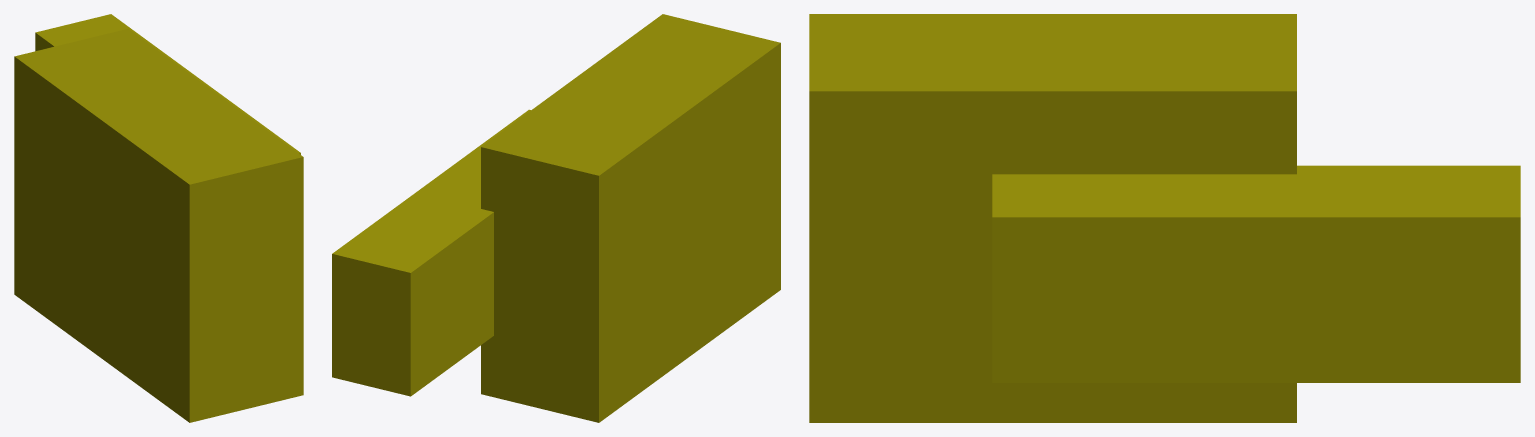
The model's file is prop-stone.glb.
3 renders of one model, left to right at view 1: azimuth 30°, elevation 25°; view 2: azimuth 150°, elevation 25°; view 3: azimuth 270°, elevation 25°, orthographic. The views are drawn at different scales.
Visible parts, largest first — view 1: samurai; view 2: samurai; view 3: samurai.
Boxes of the visible parts, bbox=[...] form: samurai: bbox=[14, 14, 303, 422]; samurai: bbox=[332, 14, 780, 422]; samurai: bbox=[809, 14, 1520, 422].
Size of the model in its own units: 0.28 by 0.36 by 0.7.
